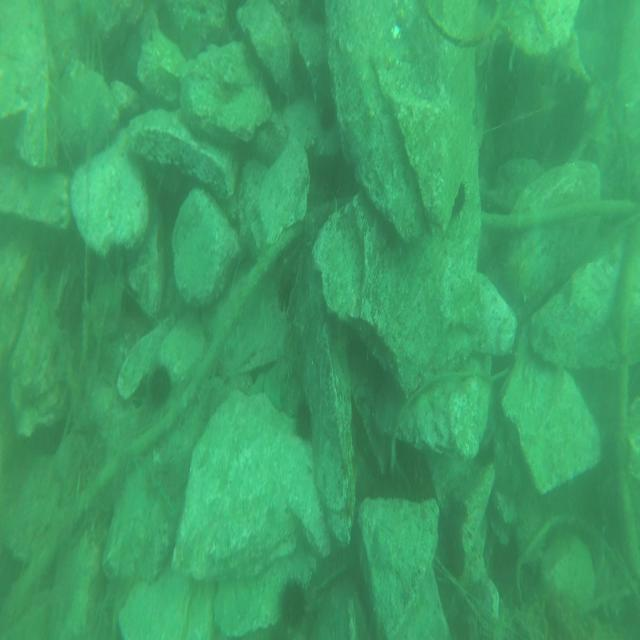echinus: (280, 575, 306, 628), (148, 364, 172, 407), (295, 399, 315, 441), (452, 180, 468, 220), (319, 99, 336, 132)
